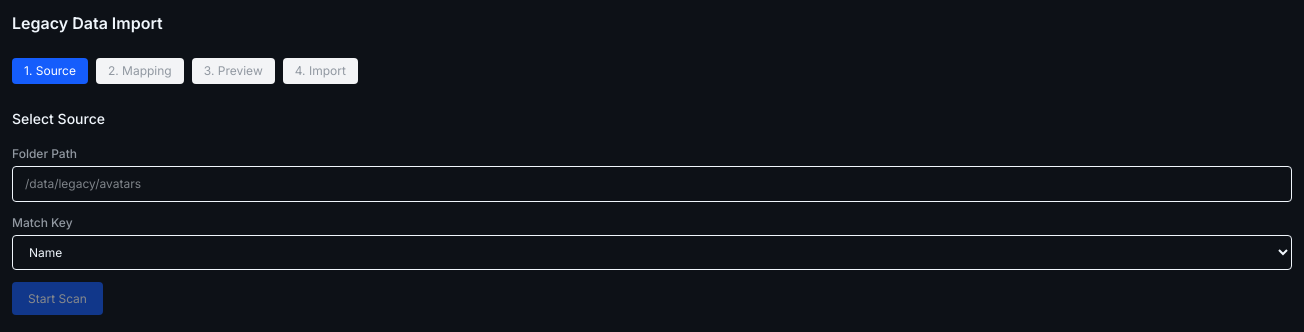
Test: LegacyImportWizard › shows import progress on import step with run data
The image size is (1304, 332).
Click the button with test id "step-import" at (320, 71), box [283, 58, 358, 84]
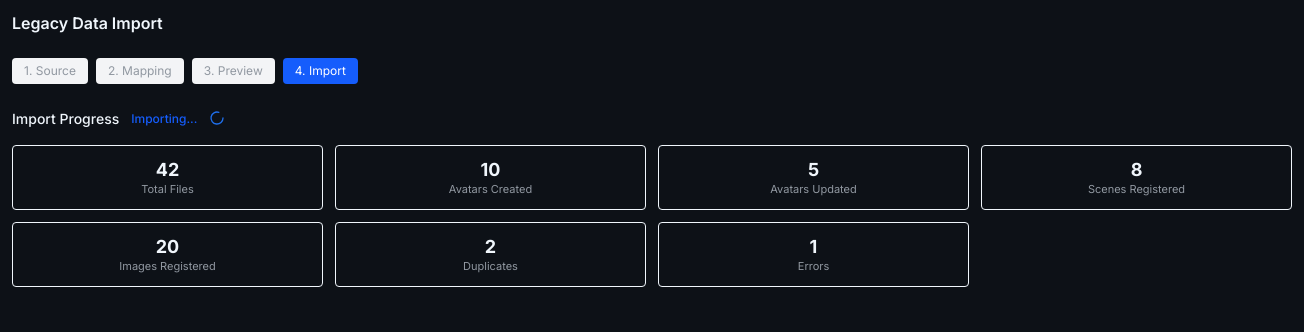
Now the element with test id "import-progress" is shown, box [12, 108, 1292, 287]
